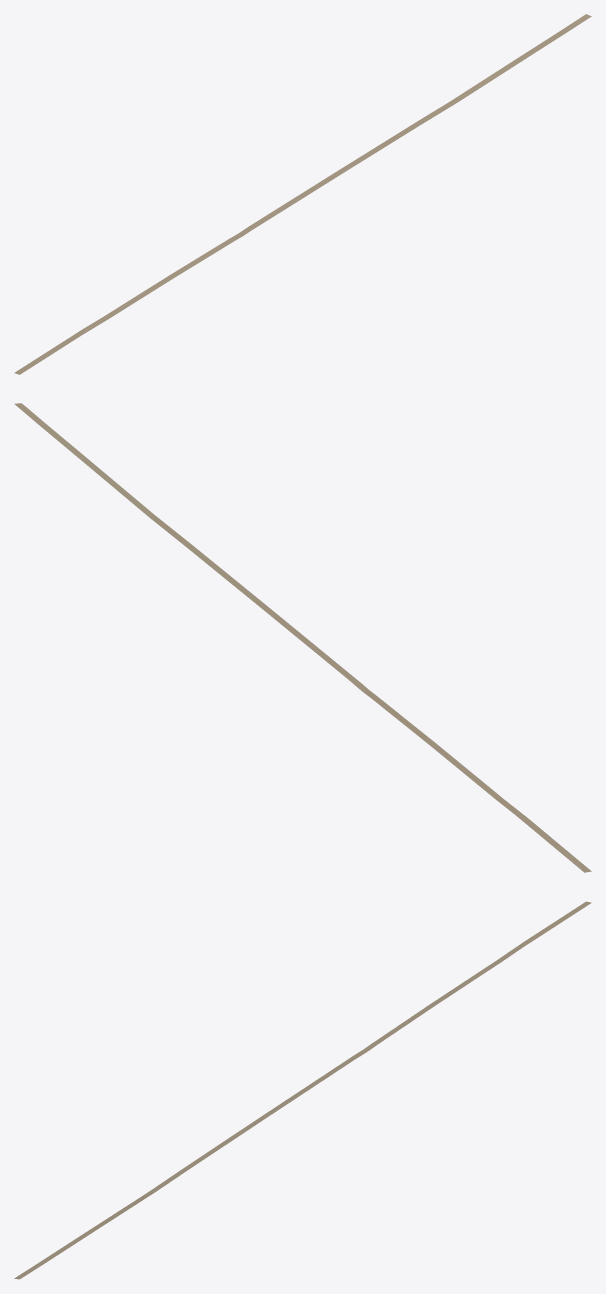
The model's file is farm_13_6_track.glb.
The picture shows the model from 3 angles, top to bottom: view 1: azimuth 90°, elevation 25°; view 2: azimuth 150°, elevation 25°; view 3: azimuth 270°, elevation 25°; orthographic projection. The views are drawn at different scales.
Parts seen in each view (by area): view 1: geometry_0; view 2: geometry_0; view 3: geometry_0.
Part boxes in pixels (left/top/right/bottom): geometry_0: left=14, top=14, right=591, bottom=374; geometry_0: left=14, top=403, right=591, bottom=872; geometry_0: left=14, top=901, right=591, bottom=1279.
Bounding box in the file's own units: 416 × 5.1 × 275.
